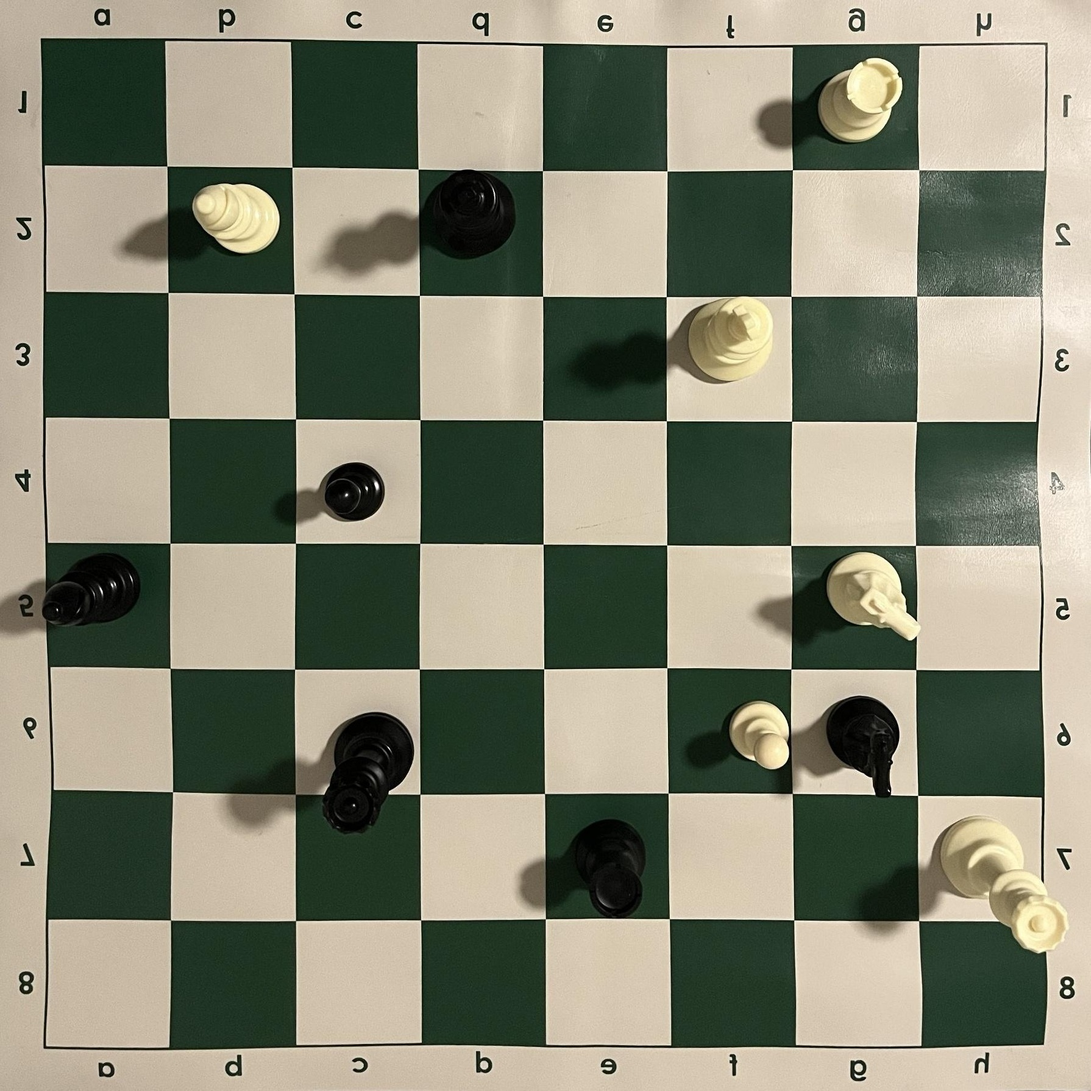black_bishop: (40, 553, 140, 627)
black_king: (425, 169, 517, 258)
black_knight: (825, 695, 901, 798)
black_pawn: (322, 461, 385, 522)
black_queen: (321, 712, 416, 834)
black_rook: (569, 818, 647, 919)
white_bishop: (192, 182, 281, 254)
white_king: (687, 295, 774, 383)
white_knight: (826, 552, 922, 641)
white_pawn: (727, 700, 791, 770)
white_queen: (938, 815, 1070, 956)
white_rook: (817, 57, 903, 144)
